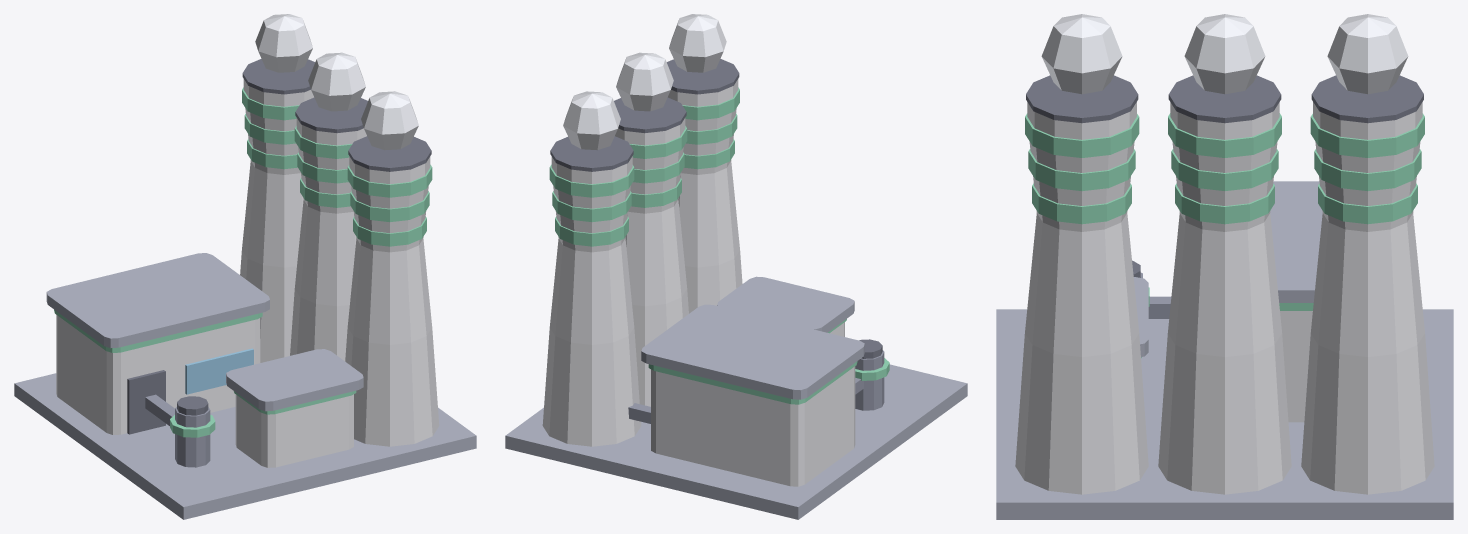
The model's file is geothermal-1x1-t6-tone-a.glb.
3 renders of one model, left to right at view 1: azimuth 30°, elevation 25°; view 2: azimuth 150°, elevation 25°; view 3: azimuth 270°, elevation 25°, orthographic. The views are drawn at different scales.
Visible parts, largest first — view 1: geothermal-1x1-t6-tone-a; view 2: geothermal-1x1-t6-tone-a; view 3: geothermal-1x1-t6-tone-a.
Boxes of the visible parts, box(x1,y1,x2,y2) form: geothermal-1x1-t6-tone-a: box(14, 14, 476, 519); geothermal-1x1-t6-tone-a: box(505, 14, 967, 519); geothermal-1x1-t6-tone-a: box(996, 14, 1453, 519).
Size of the model in its own units: 0.96 by 1.08 by 0.96.
Materials: 1 (1 with a texture image).
